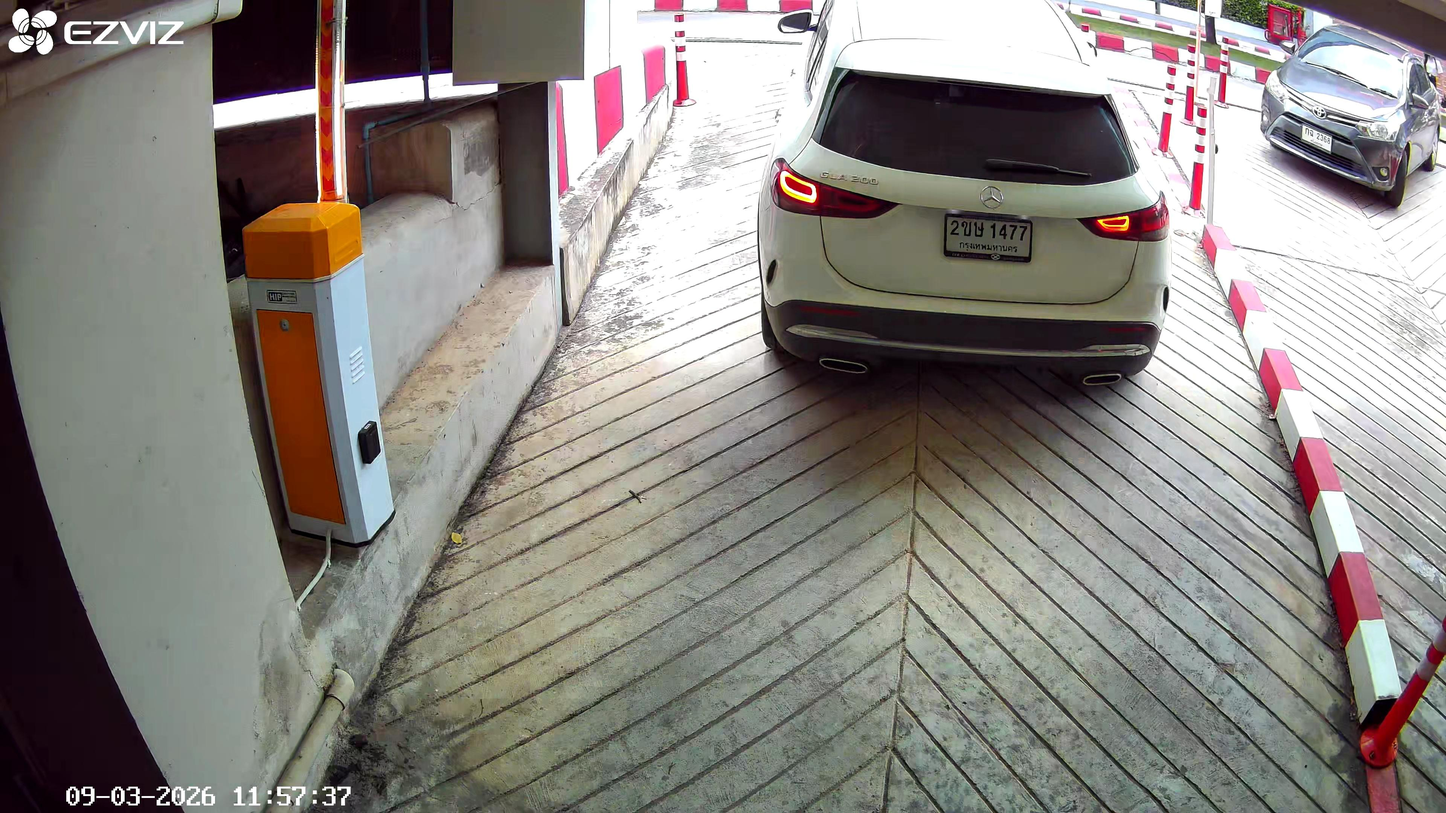car: (755, 21, 1174, 391)
license-plate: (941, 209, 1036, 261)
